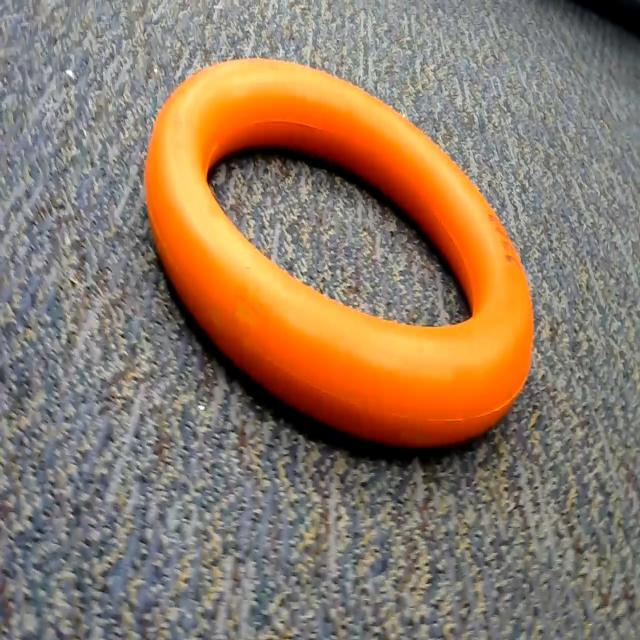note: (146, 53, 551, 482)
